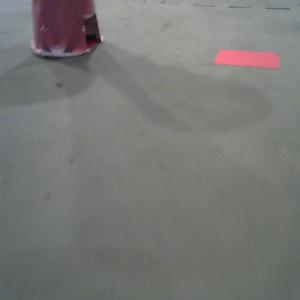middle: (29, 1, 105, 59)
